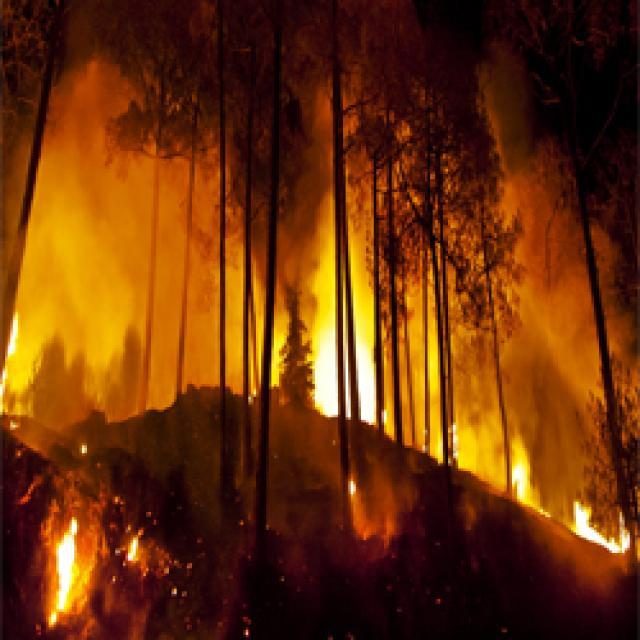Fire: (253, 124, 492, 464), (0, 478, 210, 640), (0, 251, 95, 438), (441, 395, 572, 508), (312, 432, 408, 564), (531, 475, 640, 588)
Smoke: (0, 65, 295, 410)
